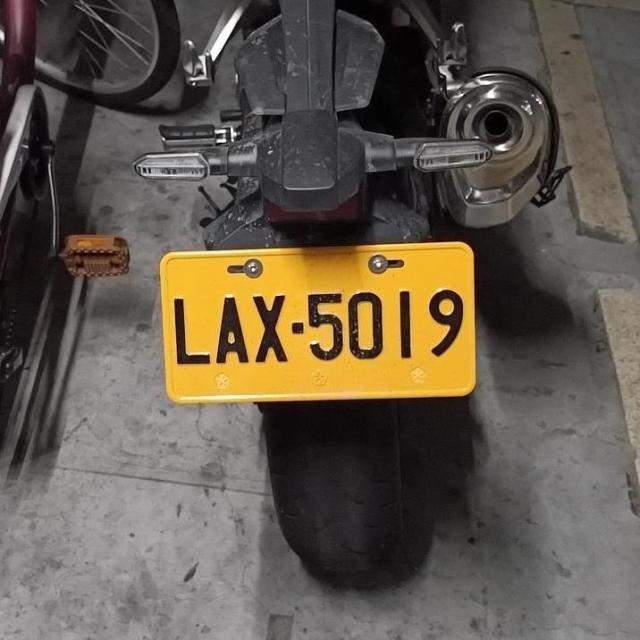Y: (150, 237, 487, 408)
